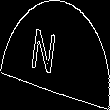N_S: (40, 25, 70, 85)
